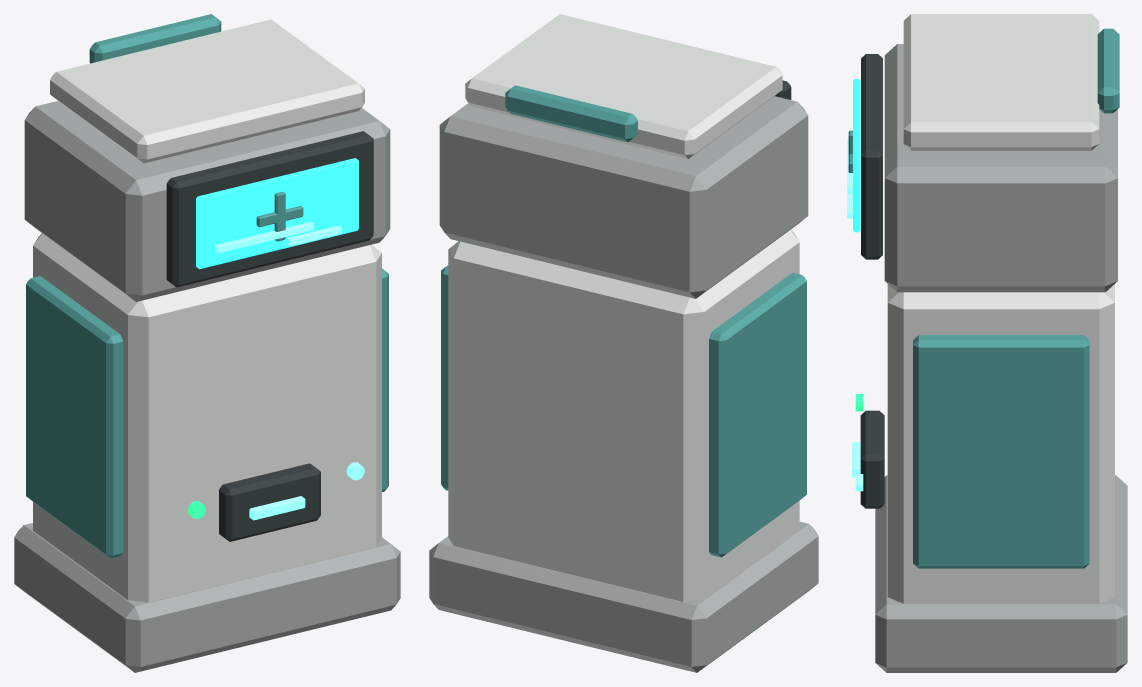
File: medbay_terminal.glb
3 renders of one model, left to right at view 1: azimuth 30°, elevation 25°; view 2: azimuth 150°, elevation 25°; view 3: azimuth 270°, elevation 25°, orthographic. The views are drawn at different scales.
Visible parts, largest first — view 1: medbay_terminal_pedestal, medbay_terminal_head, medbay_terminal_top_cap, medbay_terminal_base, medbay_terminal_side_inset_l, medbay_terminal_screen_bezel, medbay_terminal_screen_glass, medbay_terminal_data_port, medbay_terminal_grab_rail, medbay_terminal_side_inset_r, medbay_terminal_screen_ui_bar_a, medbay_terminal_data_port_slot; view 2: medbay_terminal_pedestal, medbay_terminal_head, medbay_terminal_base, medbay_terminal_top_cap, medbay_terminal_side_inset_l, medbay_terminal_grab_rail, medbay_terminal_side_inset_r; view 3: medbay_terminal_side_inset_r, medbay_terminal_head, medbay_terminal_pedestal, medbay_terminal_top_cap, medbay_terminal_base, medbay_terminal_screen_bezel, medbay_terminal_data_port, medbay_terminal_grab_rail, medbay_terminal_screen_glass.
Part boxes in pixels (x1,y1,x2,y2): medbay_terminal_pedestal: [33, 233, 381, 602]; medbay_terminal_head: [24, 101, 390, 301]; medbay_terminal_top_cap: [50, 19, 364, 163]; medbay_terminal_base: [14, 523, 400, 672]; medbay_terminal_side_inset_l: [26, 276, 123, 558]; medbay_terminal_screen_bezel: [166, 131, 373, 287]; medbay_terminal_screen_glass: [196, 158, 358, 269]; medbay_terminal_data_port: [219, 463, 320, 541]; medbay_terminal_grab_rail: [89, 14, 221, 63]; medbay_terminal_side_inset_r: [382, 268, 388, 491]; medbay_terminal_screen_ui_bar_a: [215, 222, 313, 253]; medbay_terminal_data_port_slot: [249, 496, 305, 520]; medbay_terminal_pedestal: [448, 229, 799, 601]; medbay_terminal_head: [439, 96, 808, 298]; medbay_terminal_base: [429, 521, 818, 672]; medbay_terminal_top_cap: [465, 14, 782, 158]; medbay_terminal_side_inset_l: [709, 272, 806, 557]; medbay_terminal_grab_rail: [505, 85, 637, 142]; medbay_terminal_side_inset_r: [441, 265, 448, 490]; medbay_terminal_side_inset_r: [913, 335, 1089, 568]; medbay_terminal_head: [884, 44, 1117, 292]; medbay_terminal_pedestal: [887, 284, 1114, 603]; medbay_terminal_top_cap: [903, 14, 1099, 150]; medbay_terminal_base: [875, 475, 1127, 672]; medbay_terminal_screen_bezel: [861, 54, 882, 259]; medbay_terminal_data_port: [860, 410, 884, 508]; medbay_terminal_grab_rail: [1097, 28, 1119, 113]; medbay_terminal_screen_glass: [853, 79, 860, 232].
Size of the model in its own units: 0.535 by 0.9625 by 0.444.
